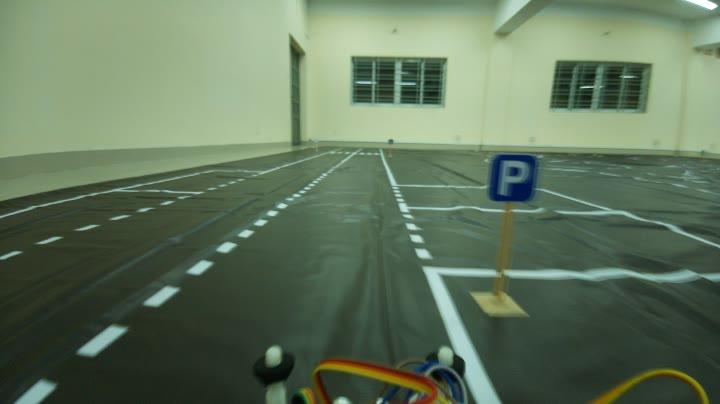parking: (483, 151, 544, 205)
